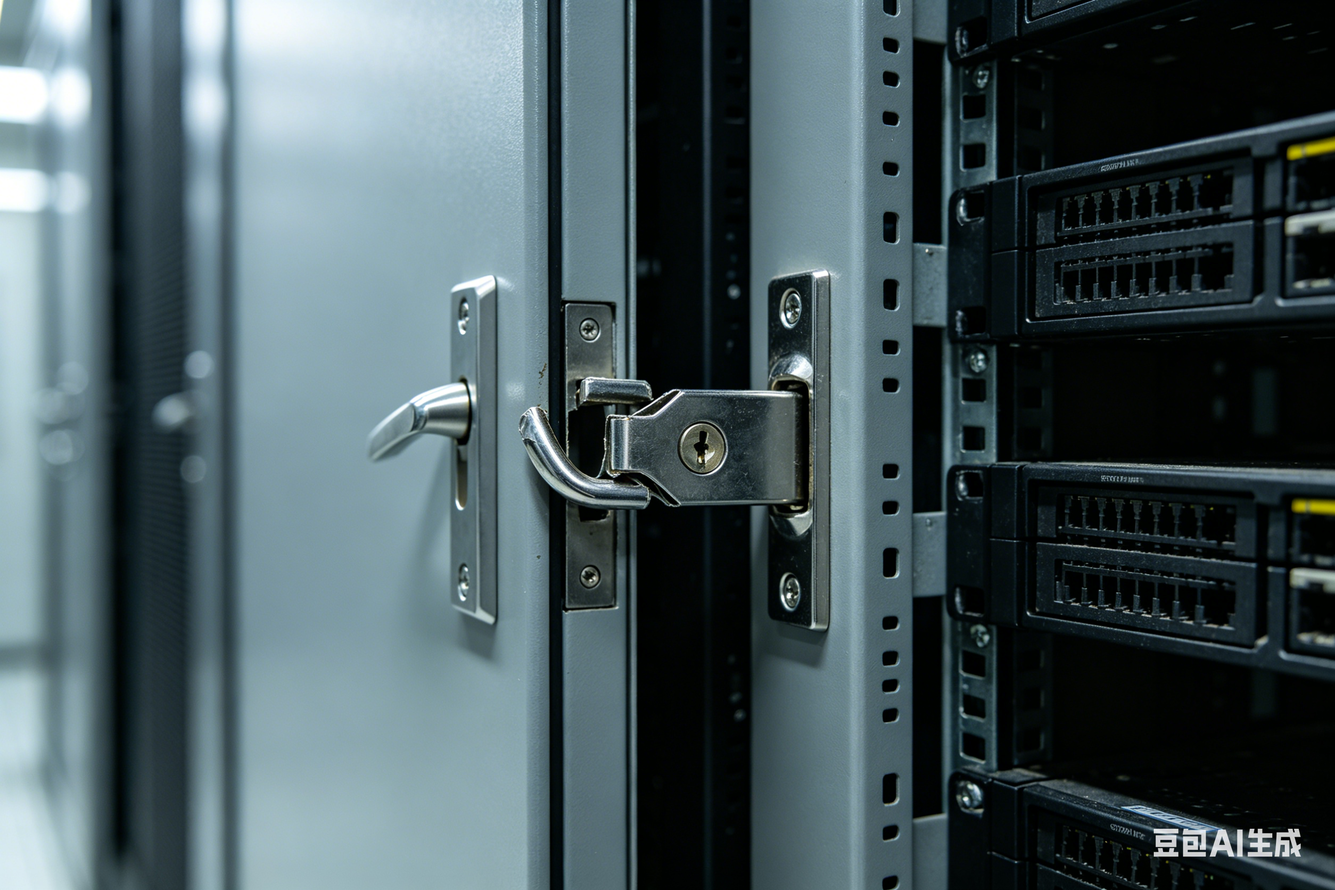BadLock: (521, 363, 688, 535)
